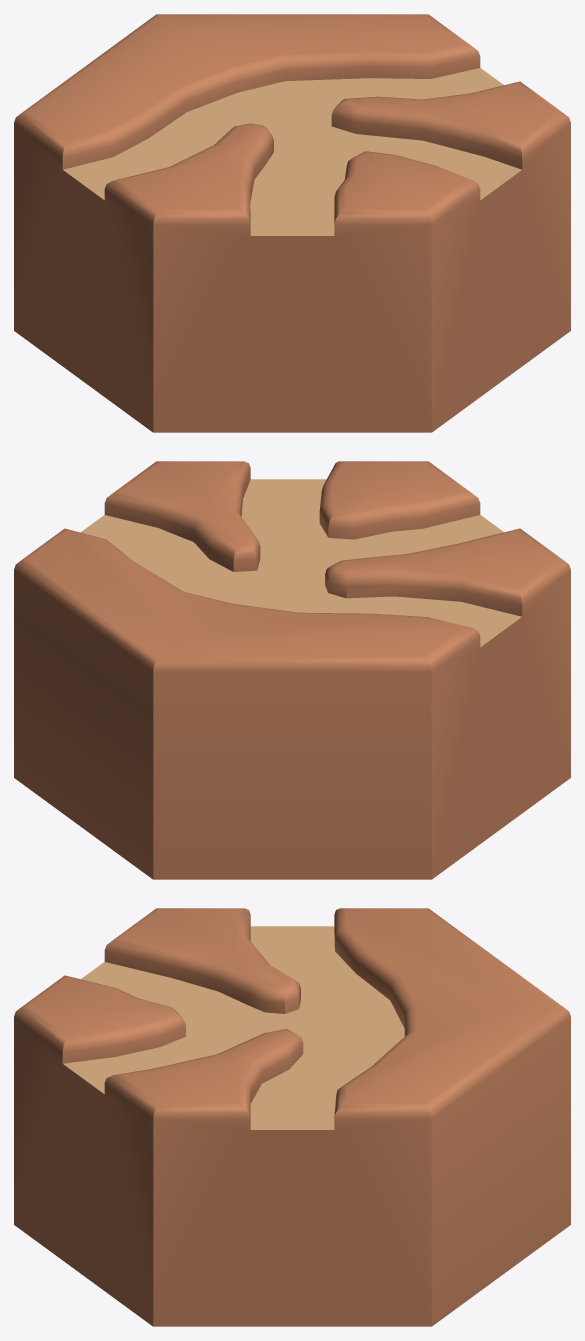
The model's file is hex_rock_roadK.glb.
The picture shows the model from 3 angles, top to bottom: view 1: azimuth 30°, elevation 25°; view 2: azimuth 150°, elevation 25°; view 3: azimuth 270°, elevation 25°; orthographic projection.
Visible parts, largest first — view 1: hex_rock_roadK; view 2: hex_rock_roadK; view 3: hex_rock_roadK.
Boxes of the visible parts, x1,y1,x2,y2 form: hex_rock_roadK: [14, 14, 570, 432]; hex_rock_roadK: [14, 461, 570, 879]; hex_rock_roadK: [14, 908, 570, 1326].
Size of the model in its own units: 2 by 1 by 2.31.
